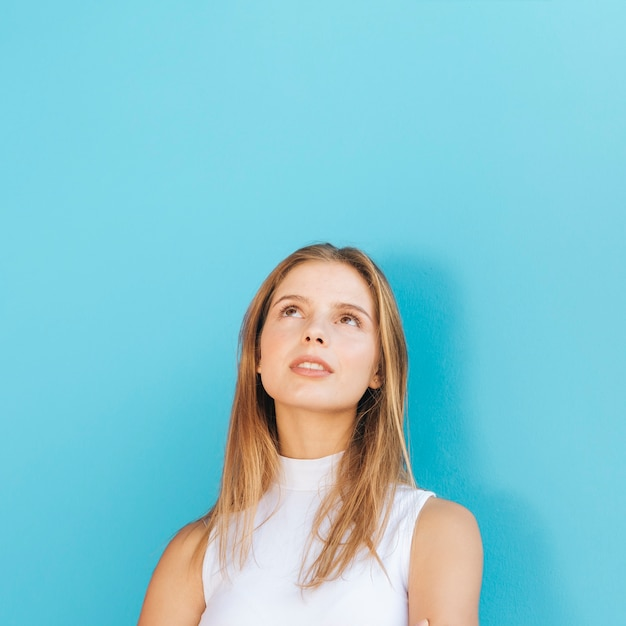teen: (231, 218, 404, 459)
